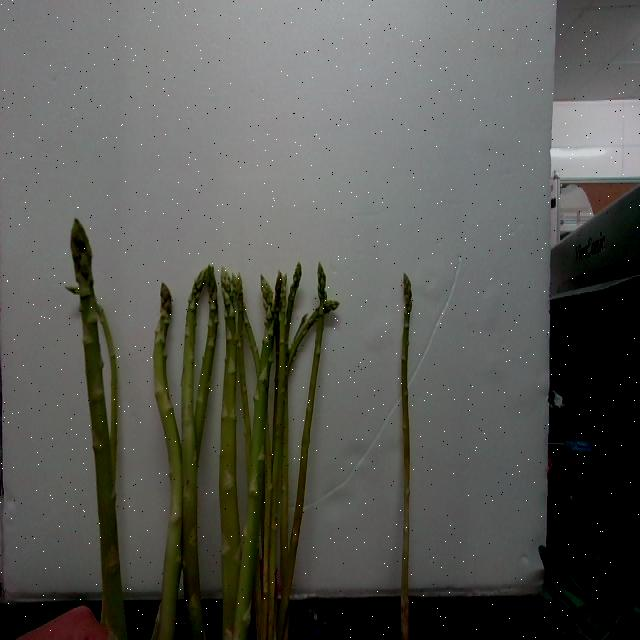aspargus: (68, 221, 124, 640), (400, 275, 415, 640)
